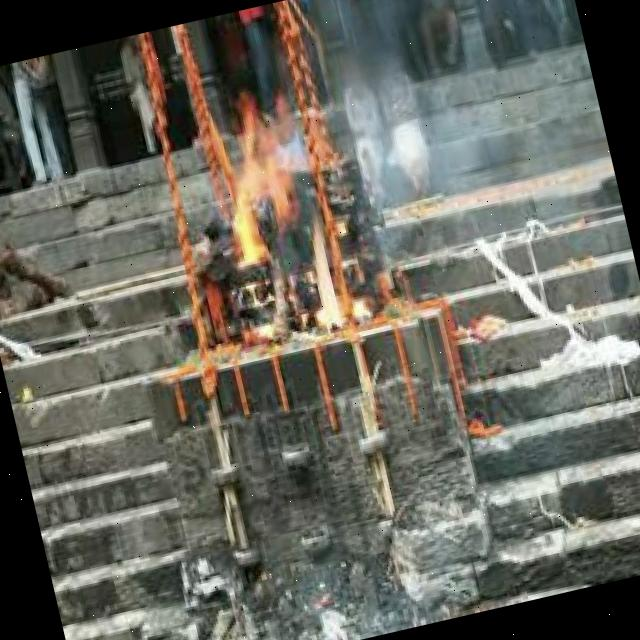fire: (206, 83, 361, 348)
